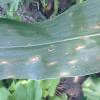Corn leaf blight: (0, 3, 99, 83)
